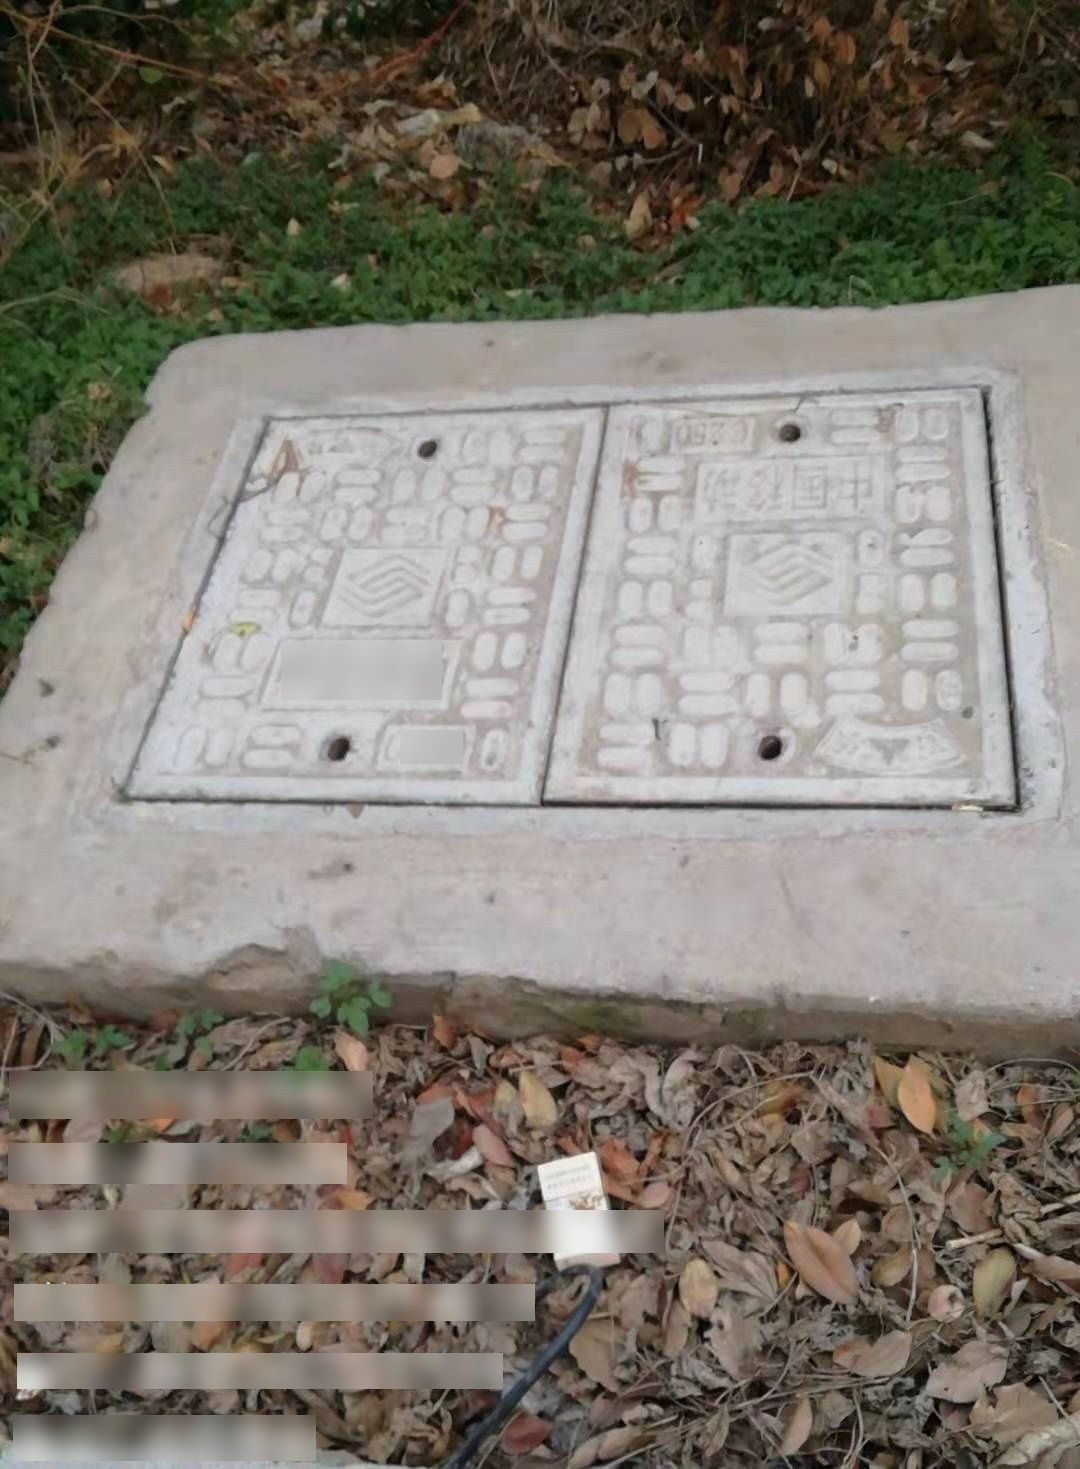well: (94, 362, 1056, 837)
